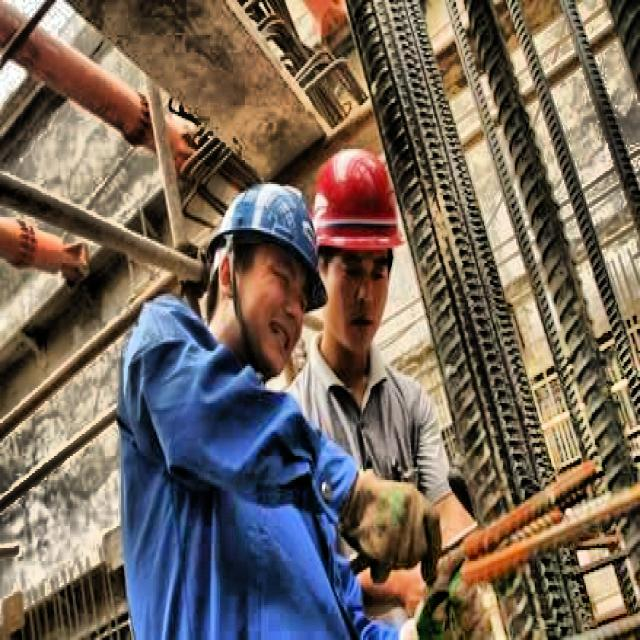helmet: (203, 166, 350, 382), (299, 144, 404, 370)
